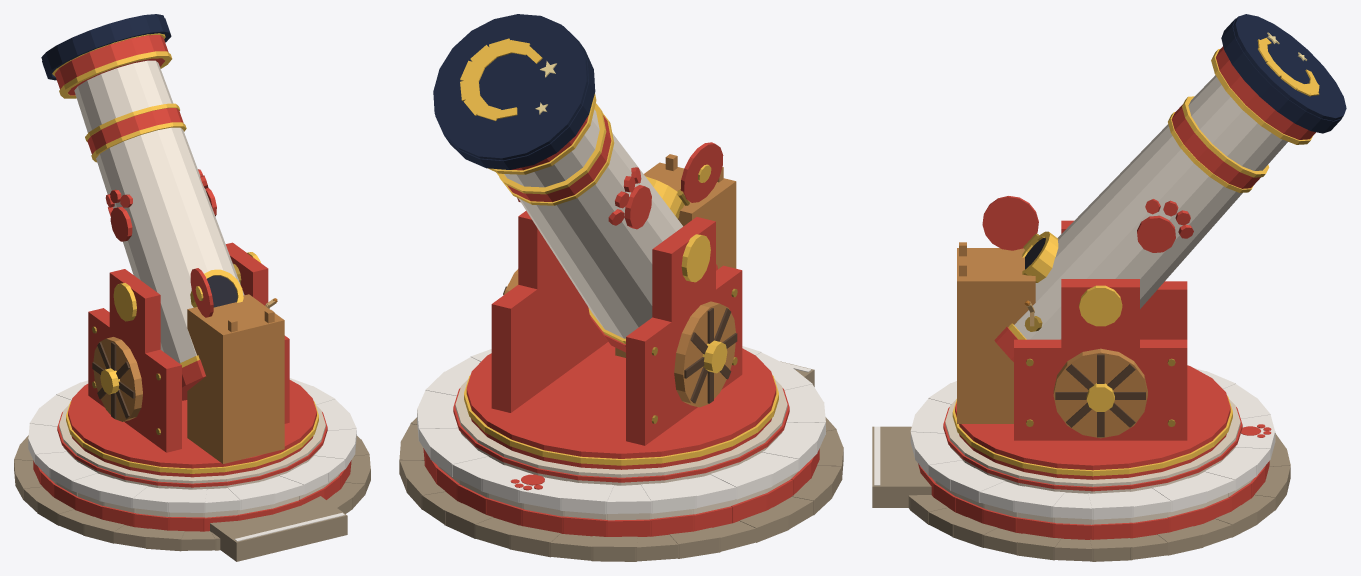
The model's file is CatCafe_Camp_Cannon_WaterPark.glb.
3 renders of one model, left to right at view 1: azimuth 30°, elevation 25°; view 2: azimuth 150°, elevation 25°; view 3: azimuth 270°, elevation 25°, orthographic. The views are drawn at different scales.
Visible parts, largest first — view 1: CatCafe_Camp_Cannon_WaterPark_Turret, CatCafe_Camp_Cannon_WaterPark, CatCafe_Camp_Cannon_WaterPark_Climb, CatCafe_Camp_Cannon_WaterPark_MoonCover; view 2: CatCafe_Camp_Cannon_WaterPark_Turret, CatCafe_Camp_Cannon_WaterPark, CatCafe_Camp_Cannon_WaterPark_MoonCover, CatCafe_Camp_Cannon_WaterPark_Climb; view 3: CatCafe_Camp_Cannon_WaterPark_Turret, CatCafe_Camp_Cannon_WaterPark, CatCafe_Camp_Cannon_WaterPark_Climb, CatCafe_Camp_Cannon_WaterPark_MoonCover.
Part boxes in pixels (left/top/right/bottom): CatCafe_Camp_Cannon_WaterPark_Turret: left=52, top=33, right=318, bottom=477; CatCafe_Camp_Cannon_WaterPark: left=14, top=378, right=370, bottom=561; CatCafe_Camp_Cannon_WaterPark_Climb: left=187, top=294, right=284, bottom=463; CatCafe_Camp_Cannon_WaterPark_MoonCover: left=41, top=14, right=171, bottom=80; CatCafe_Camp_Cannon_WaterPark_Turret: left=464, top=94, right=778, bottom=469; CatCafe_Camp_Cannon_WaterPark: left=399, top=346, right=843, bottom=561; CatCafe_Camp_Cannon_WaterPark_MoonCover: left=433, top=14, right=595, bottom=169; CatCafe_Camp_Cannon_WaterPark_Climb: left=615, top=162, right=736, bottom=357; CatCafe_Camp_Cannon_WaterPark_Turret: left=952, top=46, right=1315, bottom=479; CatCafe_Camp_Cannon_WaterPark: left=872, top=368, right=1290, bottom=561; CatCafe_Camp_Cannon_WaterPark_Climb: left=957, top=248, right=1035, bottom=423; CatCafe_Camp_Cannon_WaterPark_MoonCover: left=1221, top=14, right=1346, bottom=133.
Size of the model in its own units: 7.54 by 9.55 by 9.03.
Materials: 1 (1 with a texture image).
